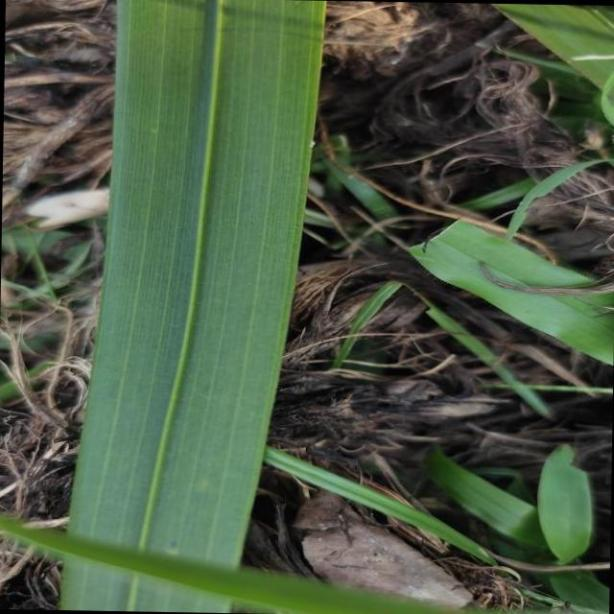Healthy: (54, 0, 329, 614)
